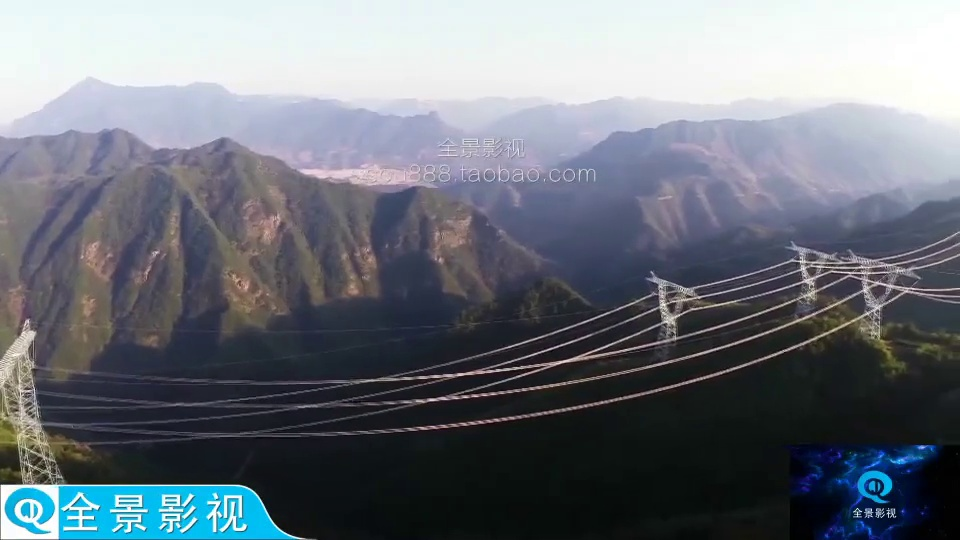tower_body: (847, 245, 928, 342), (635, 266, 712, 355), (784, 237, 839, 320)
tower_head: (847, 250, 924, 307), (642, 270, 704, 323), (789, 243, 838, 287)
